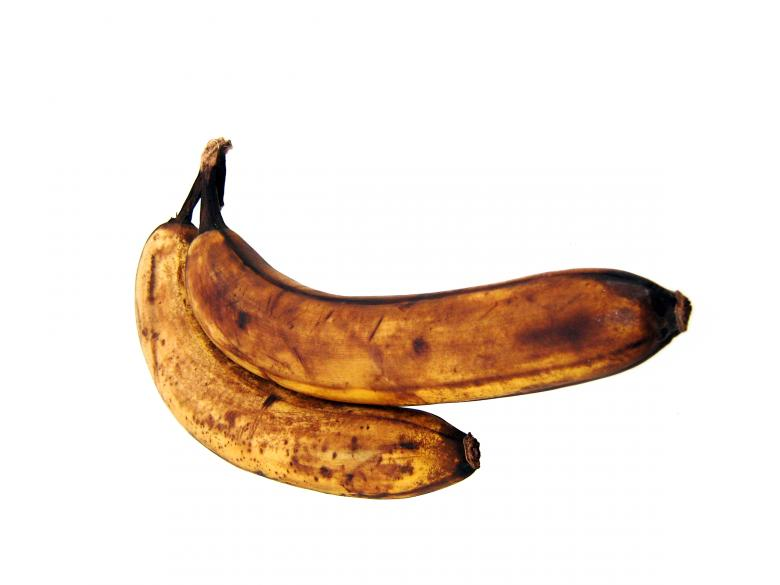rotten_banana: (183, 138, 693, 405), (136, 137, 480, 497)
